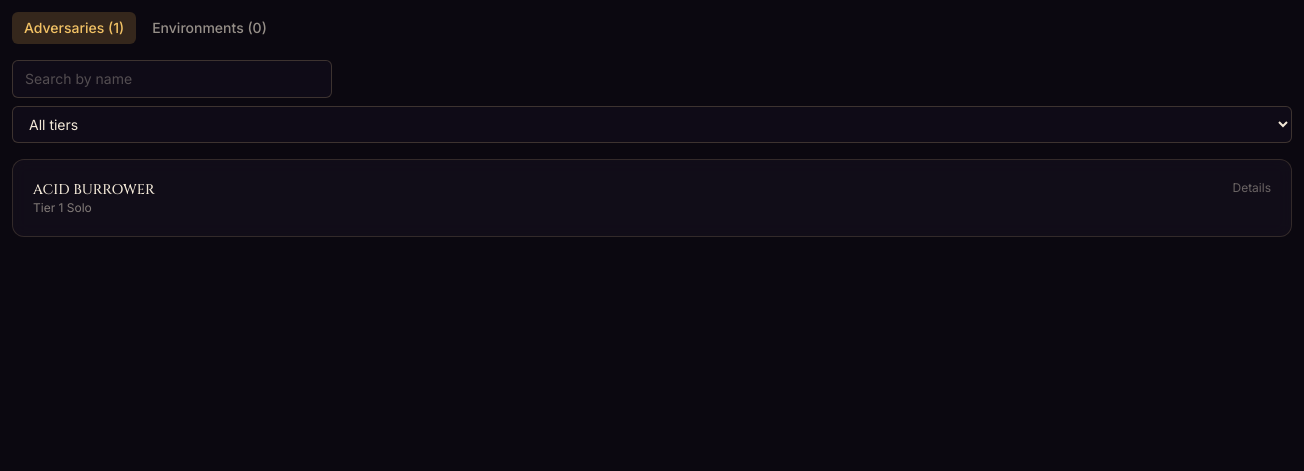
Scenario: BestiaryPage › adds an adversary to the Library when a world exists
Check: the heading "ACID BURROWER" is shown, box left=33, top=180, right=155, bottom=200
Click the button "ACID BURROWER Tier 1 Solo Details": point(94, 190) left=33, top=180, right=1271, bottom=216
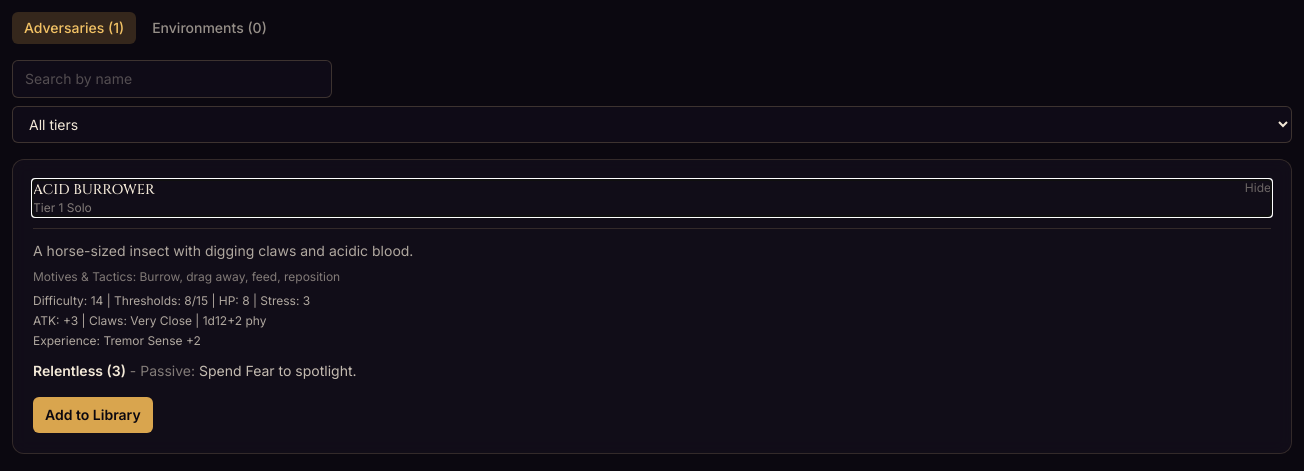
Click the button "Add to Library": point(93, 415) left=33, top=397, right=153, bottom=433
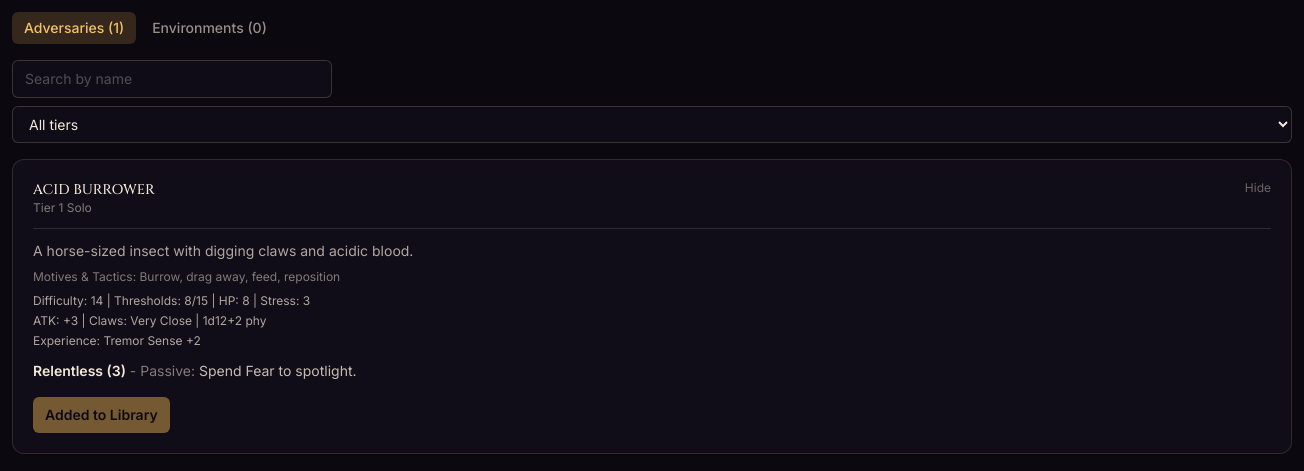
Check: the button "Added to Library" is shown, box left=33, top=397, right=170, bottom=433
